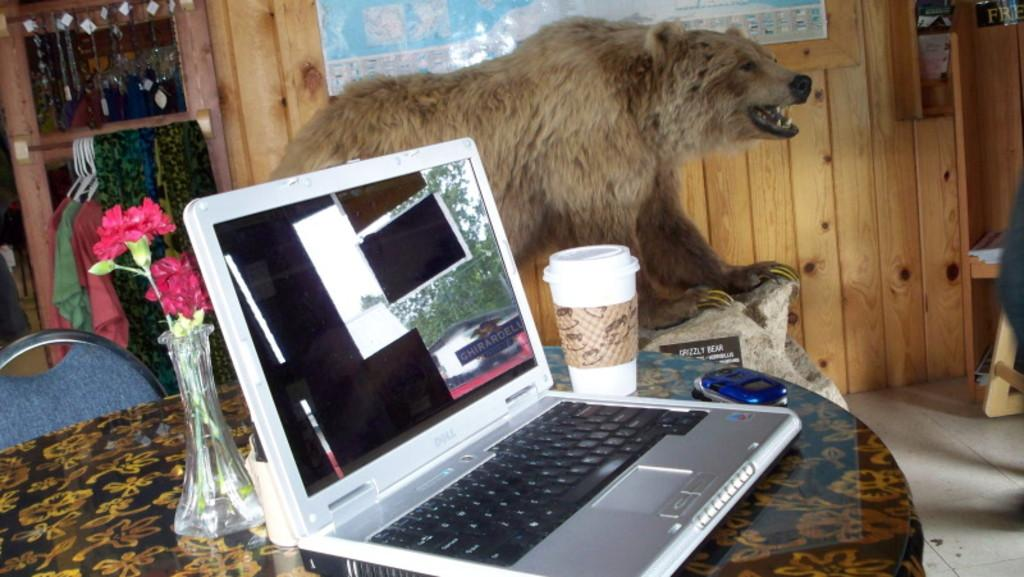Laptop: (191, 133, 832, 577)
